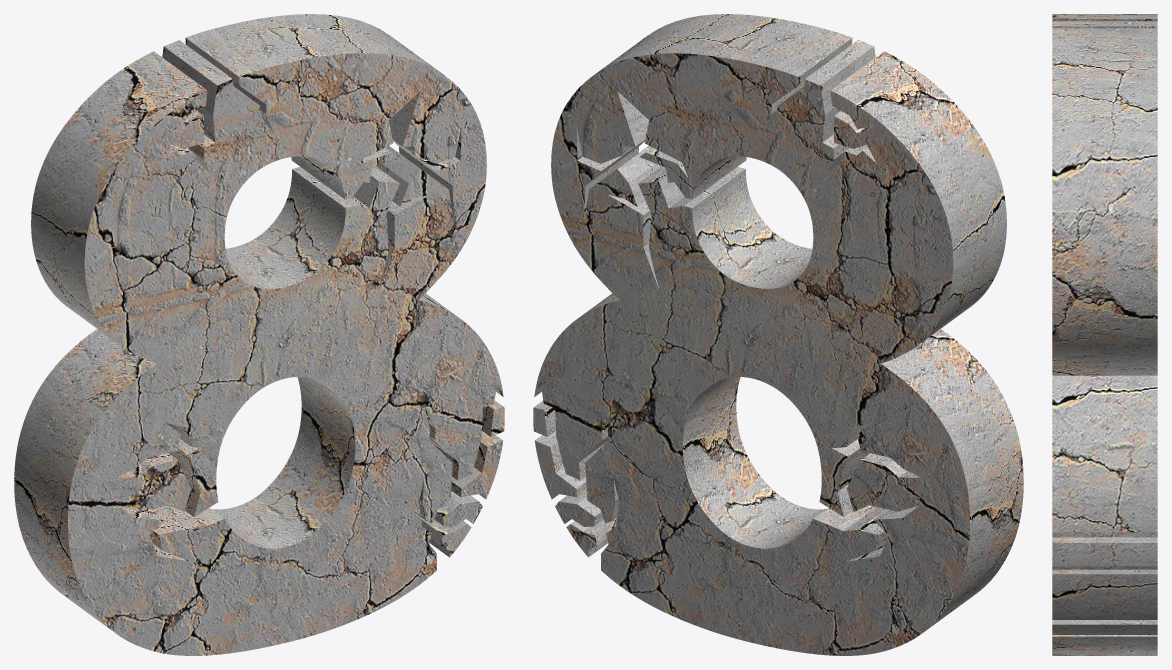
3 views of the same model, side by side, from view 1: azimuth 30°, elevation 25°; view 2: azimuth 150°, elevation 25°; view 3: azimuth 270°, elevation 25° (orthographic).
Parts seen in each view (by area): view 1: 8; view 2: 8; view 3: 8.
Boxes of the visible parts, bbox=[...] form: 8: bbox=[14, 14, 504, 655]; 8: bbox=[533, 14, 1023, 655]; 8: bbox=[1052, 14, 1157, 655].
Size of the model in its own units: 70.55 by 89.42 by 15.
1 material, 1 textured.
